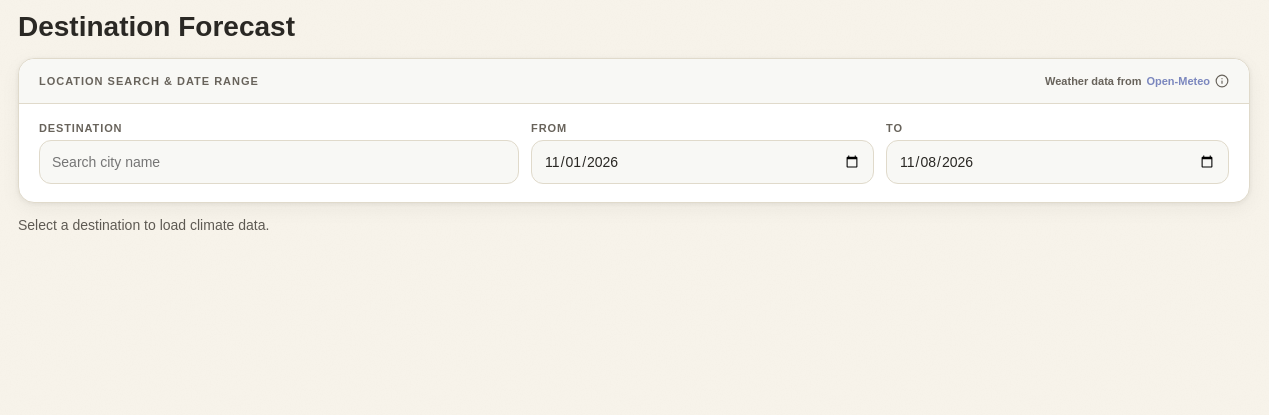
Test: ForecastTool › FE-FOR-004 shows loading state while climate data is fetching
In the dropdown named "Search destination": (279, 162) [39,140,519,184], type "Bar"
Wait 500 ms
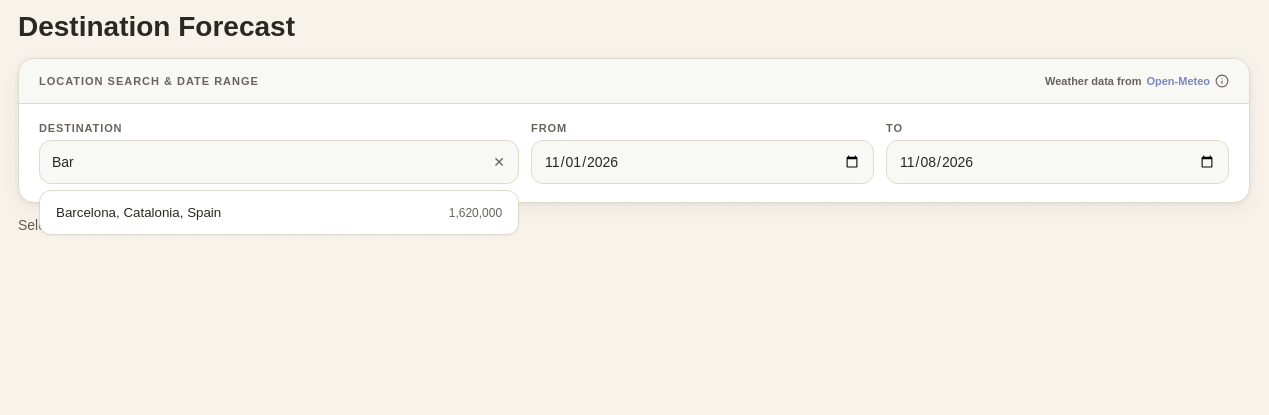
Press ArrowDown in the dropdown named "Search destination", box [39,140,519,184]
Press Enter in the dropdown named "Search destination", box [39,140,519,184]
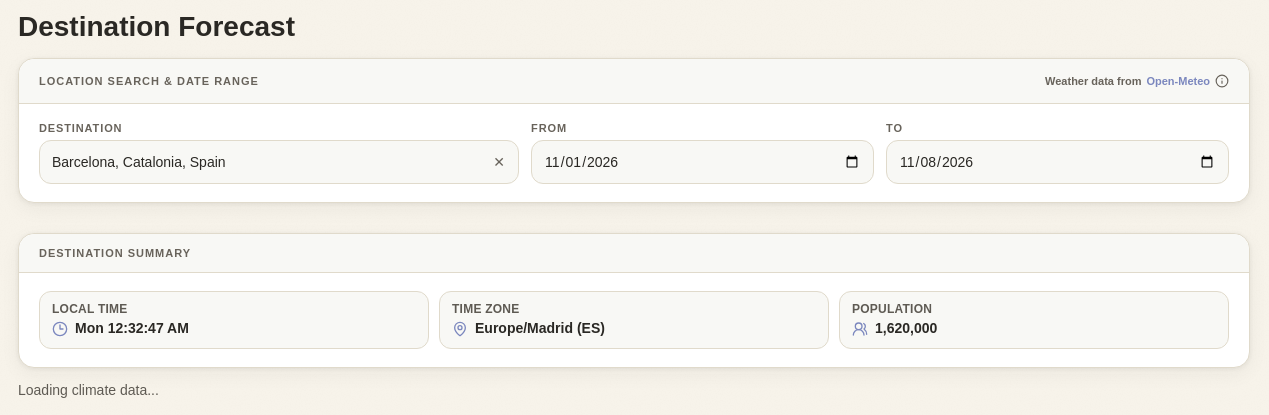
Expected: the text "Loading climate data..." is shown, [18,382,159,398]
